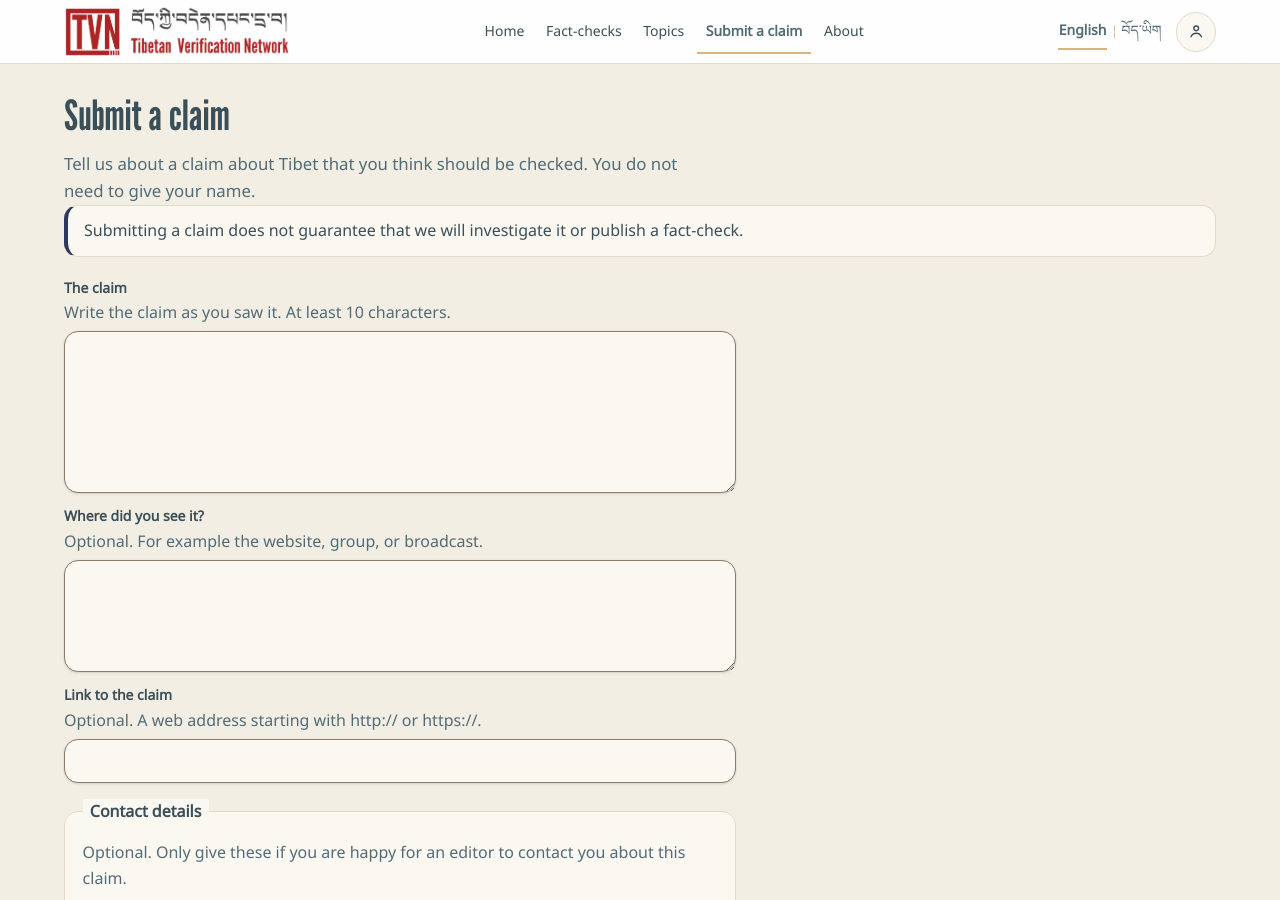
submit page › does not render the verification widget unless it is configured, and requires it when it is
The width and height of the screenshot is (1280, 900).
expect the heading "Submit a claim" is shown: met, box [64, 90, 230, 140]
expect the text "Verification" is not shown: met
Type "The river stops flowing every winter." into the text box labelled "The claim" at (400, 412), box [64, 331, 736, 493]
(page scrolled)
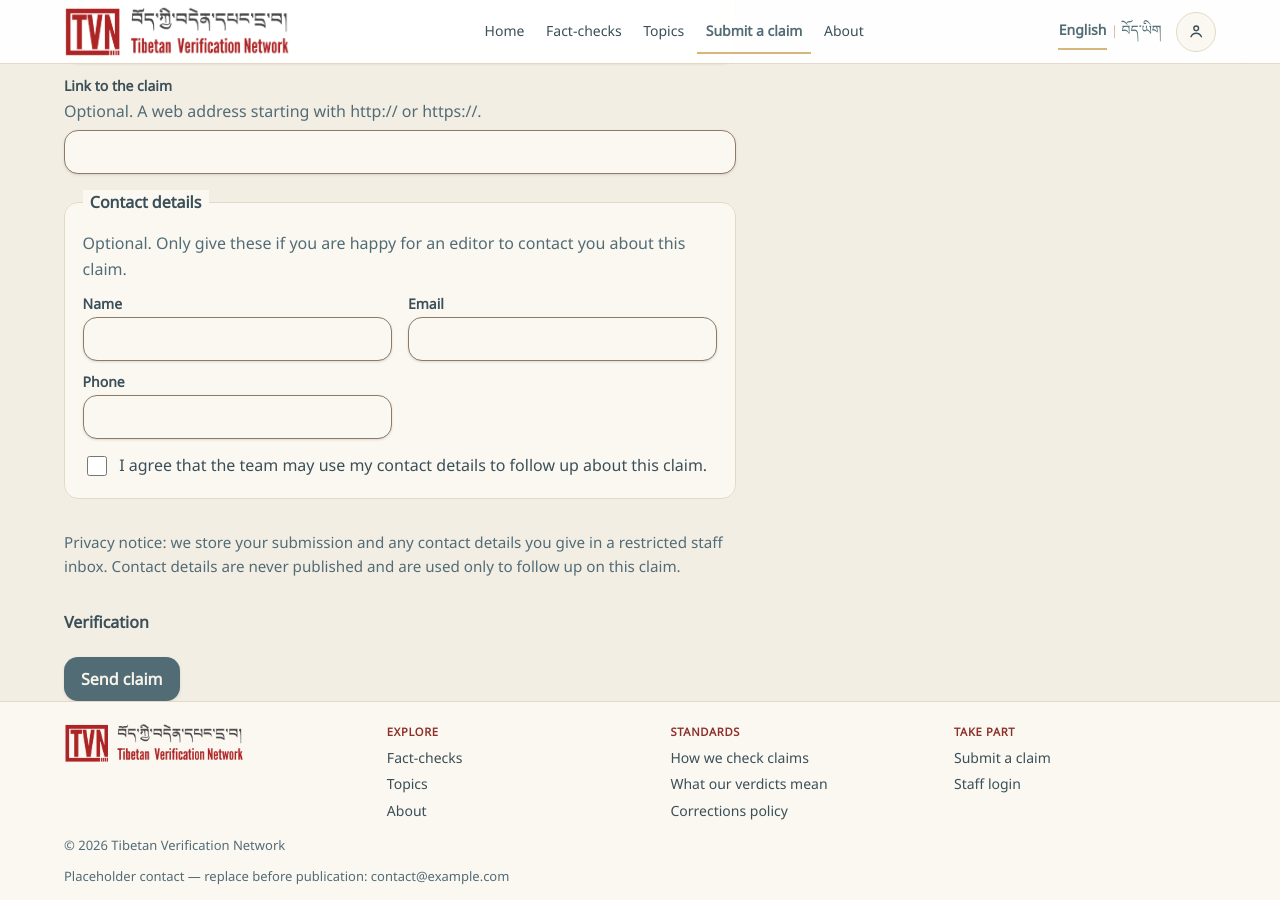
Click the button "Send claim" at (122, 679), box [64, 657, 180, 701]
(page scrolled)
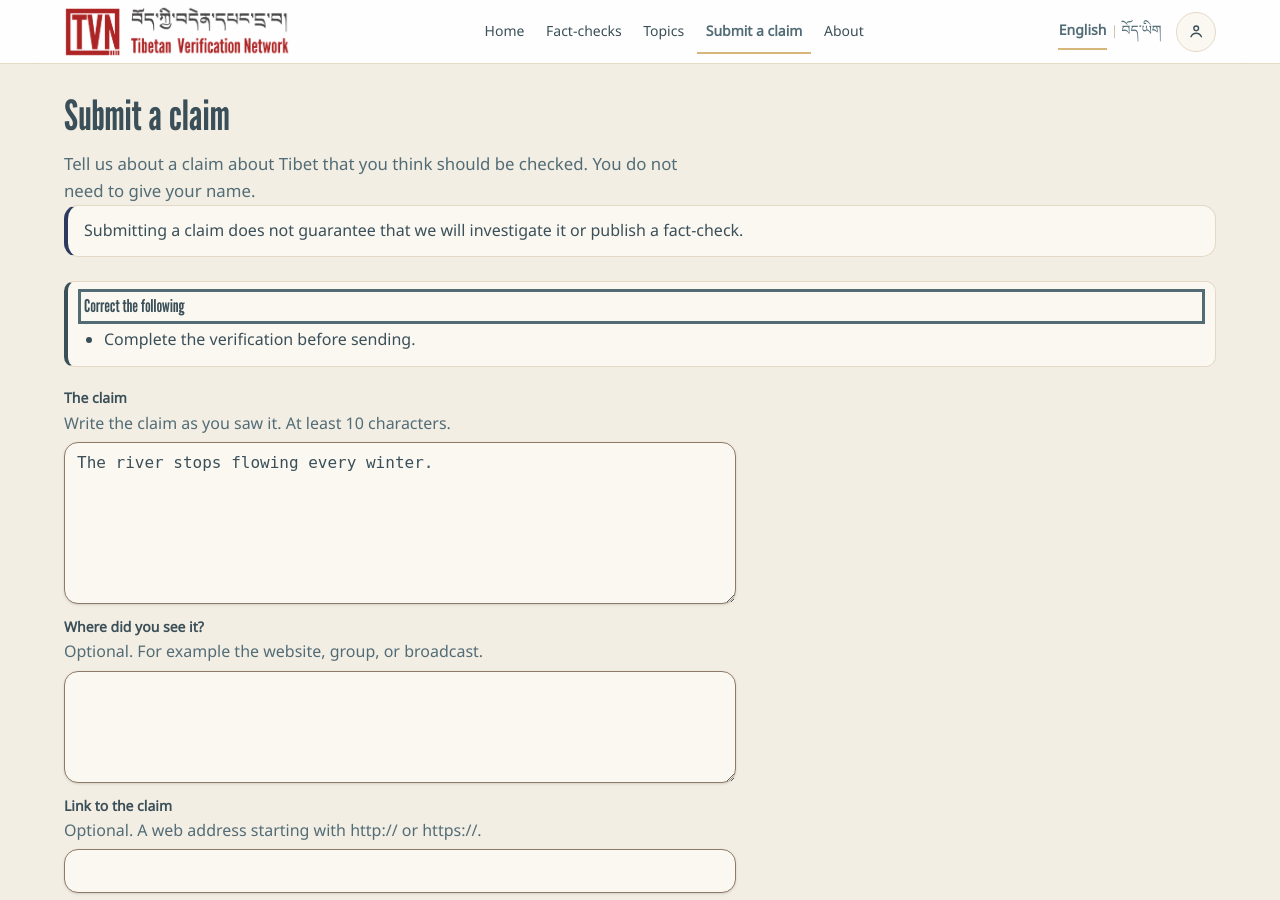
expect the number of list items "Complete the verification before sending." is 2: met
